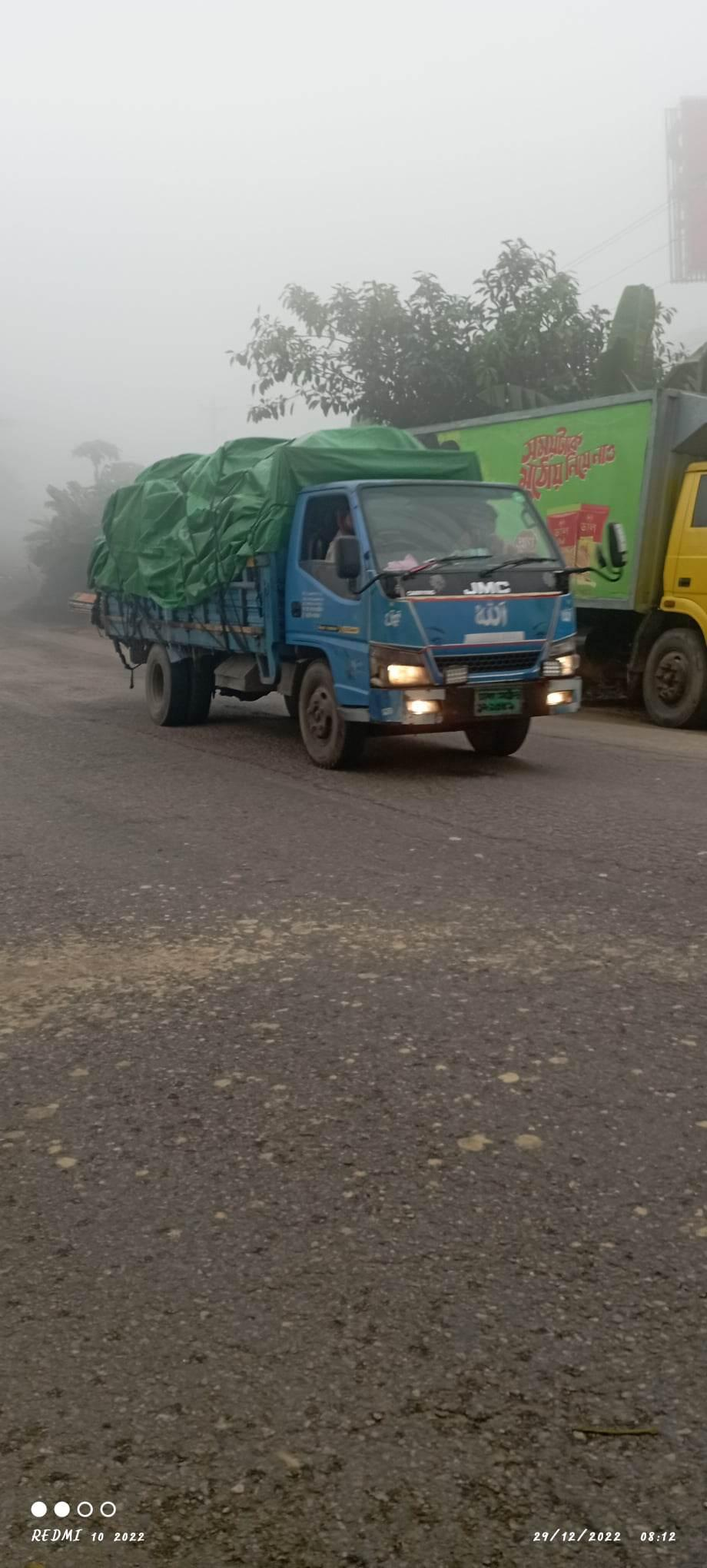Truck: (73, 422, 582, 793), (438, 377, 707, 728)
